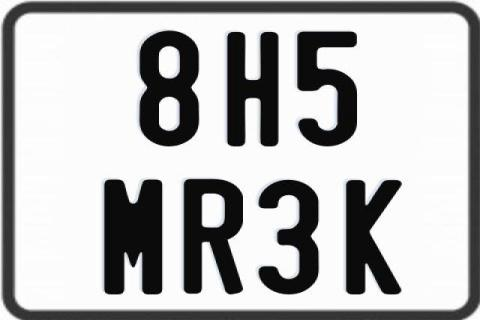0: (294, 31, 360, 150), (136, 31, 200, 150), (257, 178, 319, 296)
H: (226, 31, 278, 148)
K: (345, 180, 405, 296)
M: (101, 178, 163, 296)
R: (181, 178, 242, 294)
